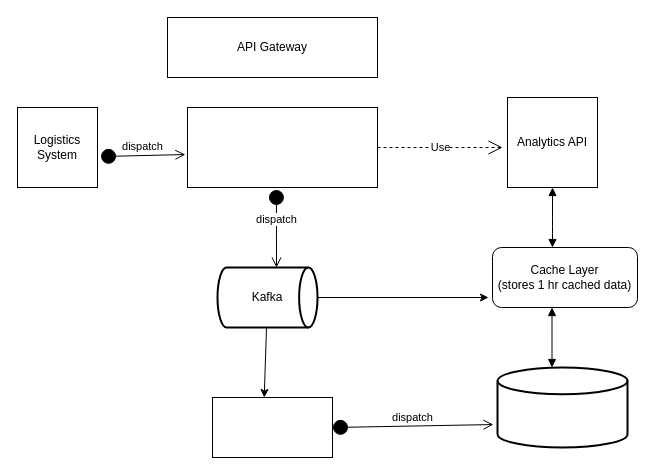
The diagram is 655 pixels wide and 475 high, and some of its shapes have lost their labels. Here are the shapes that lost their labels. From the top down, the centre of each, then its label:
At (x=282, y=147): "Analytics Microservice Appender/Event Collector".
At (x=272, y=427): "Stream collector".
At (x=562, y=407): "SQL Database".
